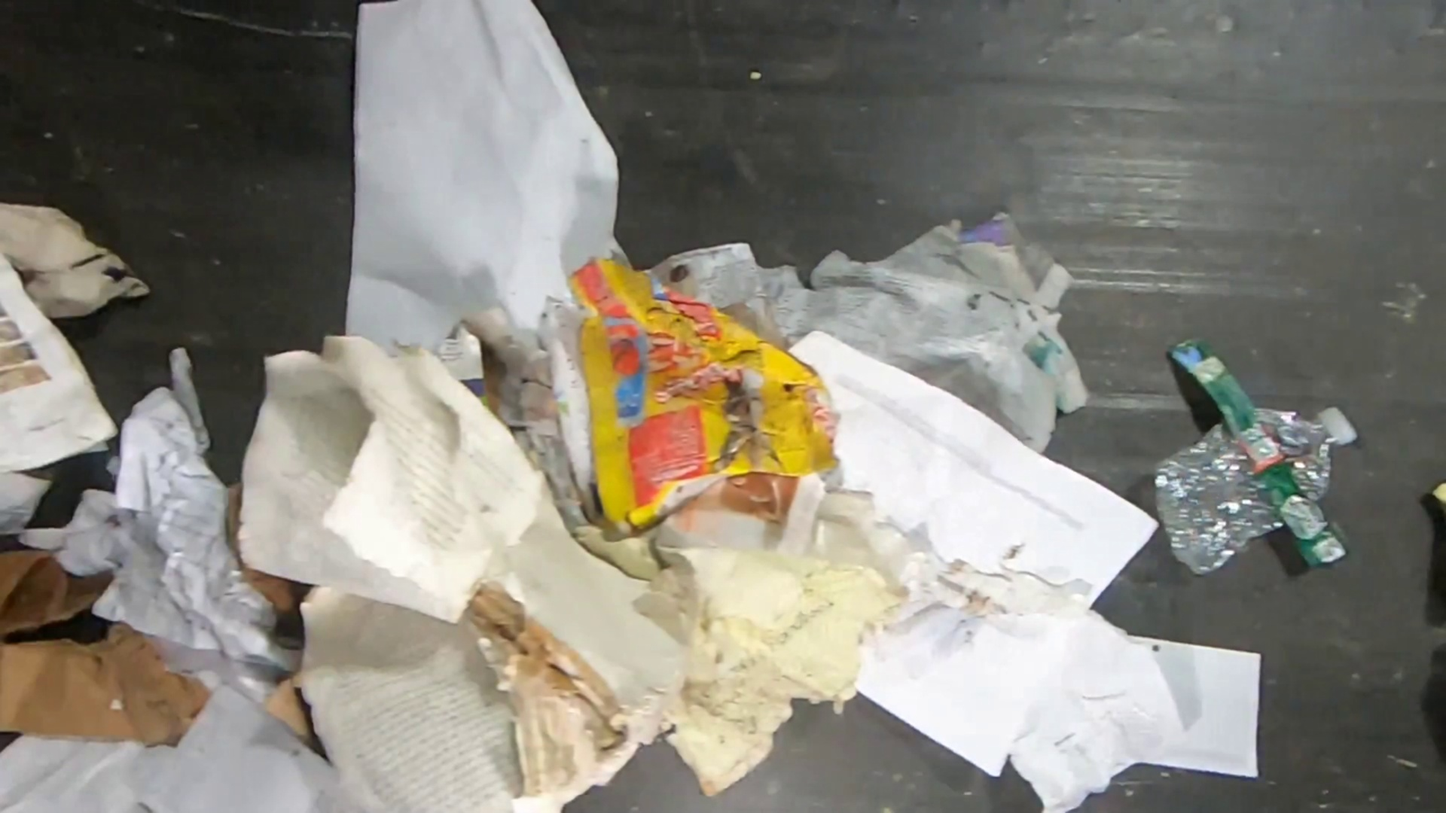cardboard: (570, 258, 839, 541), (0, 537, 213, 747), (244, 570, 308, 627), (225, 484, 244, 570)
plastic: (1152, 337, 1359, 576)
